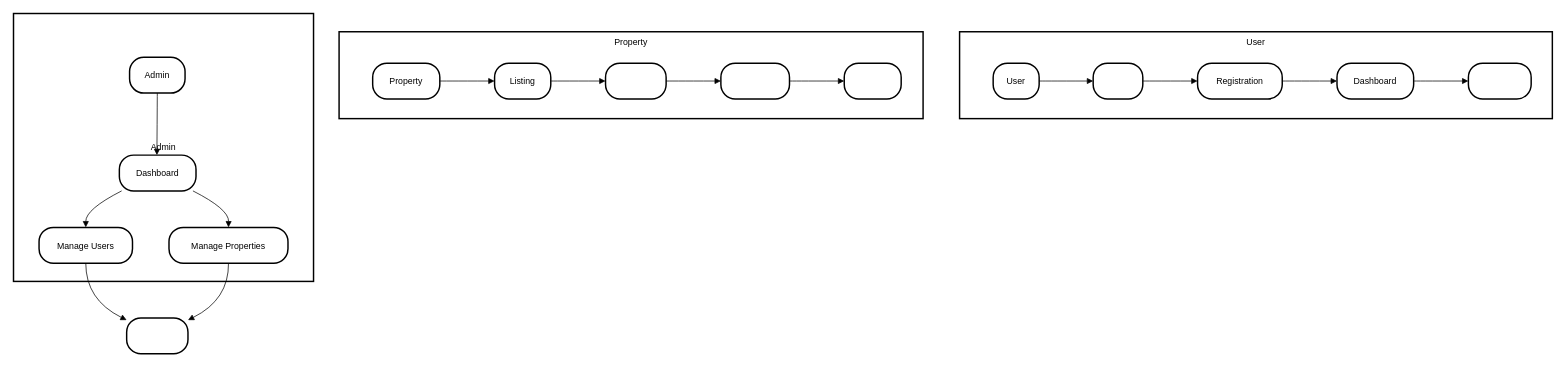
This 1565x366 diagram has some shape labels left out. The centre of each missing label's shape, as x and y in pixels:
"Booking" goes at (1499,80).
"Calendar" goes at (755,80).
"Hosting" goes at (635,80).
"Login" goes at (1117,80).
"Pricing" goes at (872,80).
"Reports" goes at (157,335).
